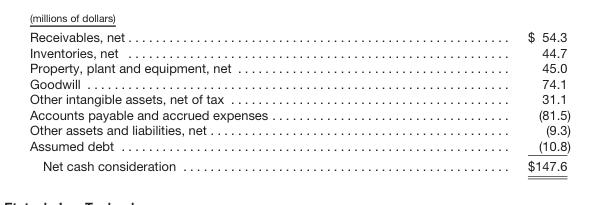table: (28, 28, 569, 173)
table column: (28, 28, 397, 173), (397, 28, 569, 173)
table row: (28, 137, 569, 155), (28, 155, 569, 173), (28, 28, 569, 44), (28, 44, 569, 60), (28, 75, 569, 91), (28, 106, 569, 122), (28, 60, 569, 75), (28, 91, 569, 106), (28, 122, 569, 137)
